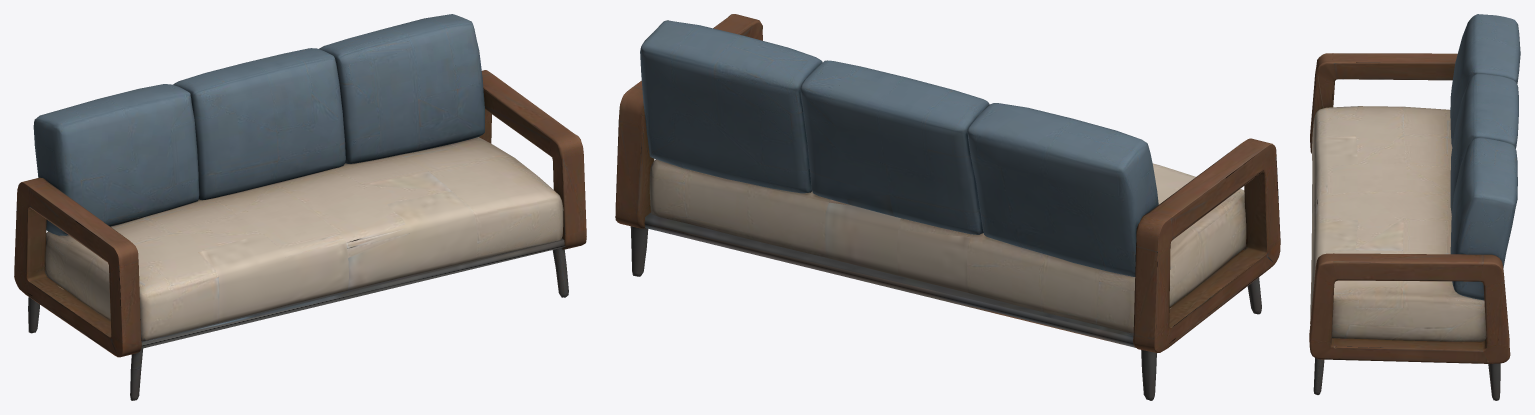
Rendered from sofa.loft.glb.
3 renders of one model, left to right at view 1: azimuth 30°, elevation 25°; view 2: azimuth 150°, elevation 25°; view 3: azimuth 270°, elevation 25°, orthographic. The views are drawn at different scales.
Visible parts, largest first — view 1: geometry_0; view 2: geometry_0; view 3: geometry_0.
Part boxes in pixels (bbox=[...]): geometry_0: bbox=[14, 14, 586, 400]; geometry_0: bbox=[615, 14, 1280, 400]; geometry_0: bbox=[1309, 14, 1520, 400].
Bounding box in the file's own units: 1 × 0.4499 × 0.4289.
1 material, 1 textured.
